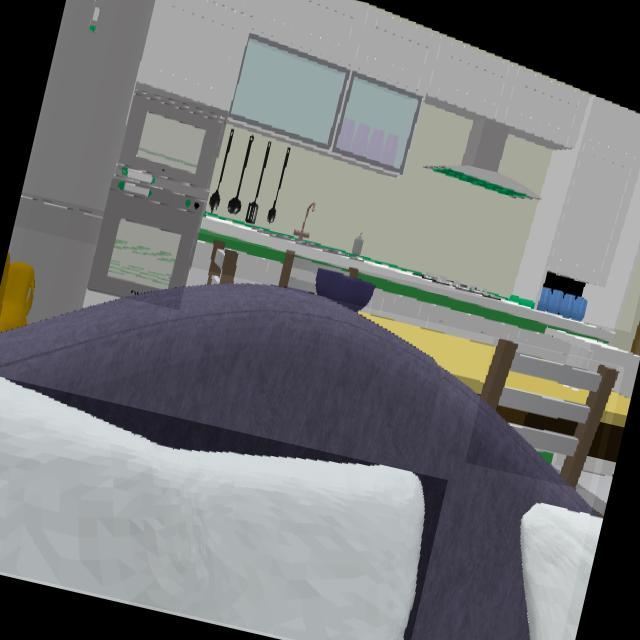cabinet: (137, 0, 640, 329)
chair: (482, 340, 616, 488)
fridge: (8, 0, 154, 321)
microwave: (119, 90, 224, 189)
oven: (88, 178, 204, 296)
pillow: (0, 381, 424, 640)
sofa: (0, 283, 591, 640)
